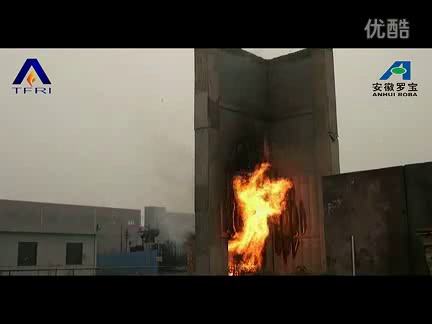fire: (226, 157, 294, 272)
